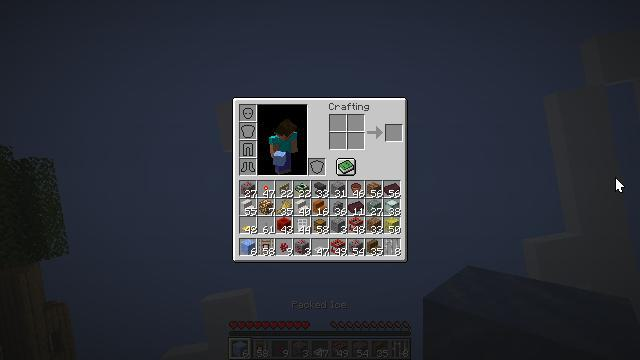cursor: (615, 177, 625, 193)
